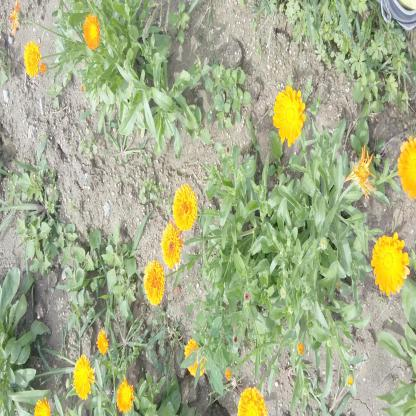marigold: (373, 235, 406, 295), (275, 87, 304, 142), (174, 184, 196, 230), (400, 138, 416, 197), (186, 339, 206, 379), (162, 224, 180, 267), (146, 262, 164, 304), (74, 357, 92, 399), (24, 42, 42, 78), (118, 380, 134, 413), (84, 16, 100, 47)
